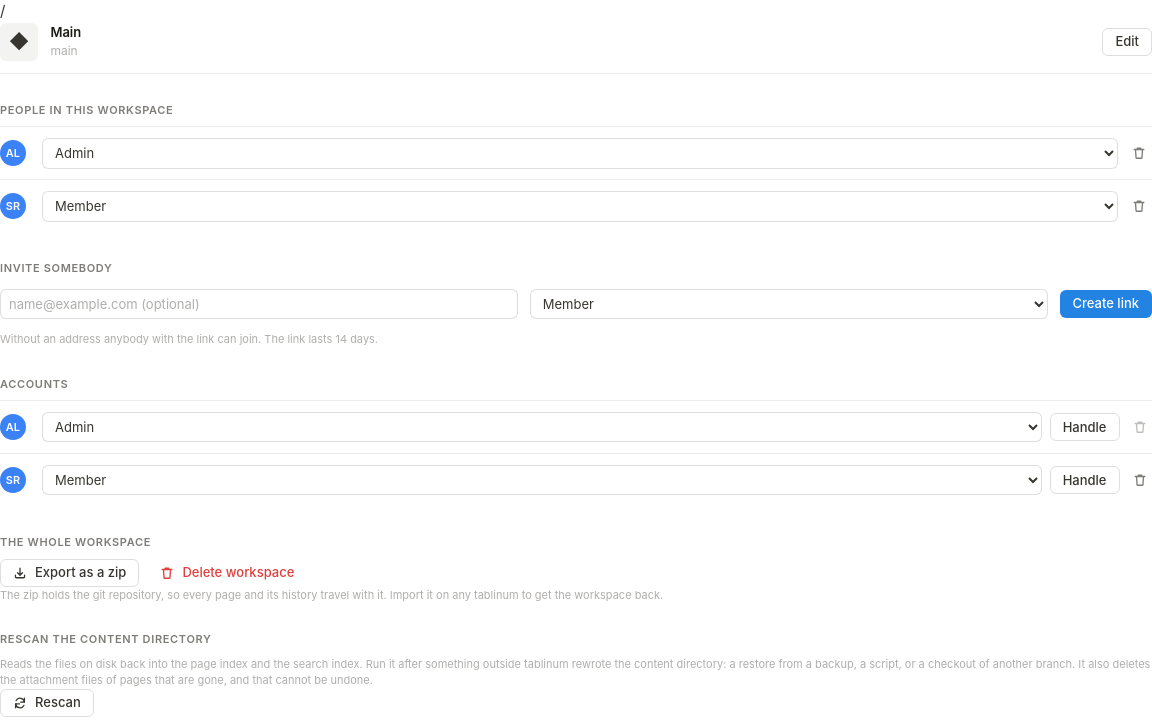
Test: the workspace settings panel › stays in the workspace after a rename changes its slug
This screenshot has width=1152, height=720.
Click the button "Edit" at {"x": 1127, "y": 42}, box [1102,28,1151,56]
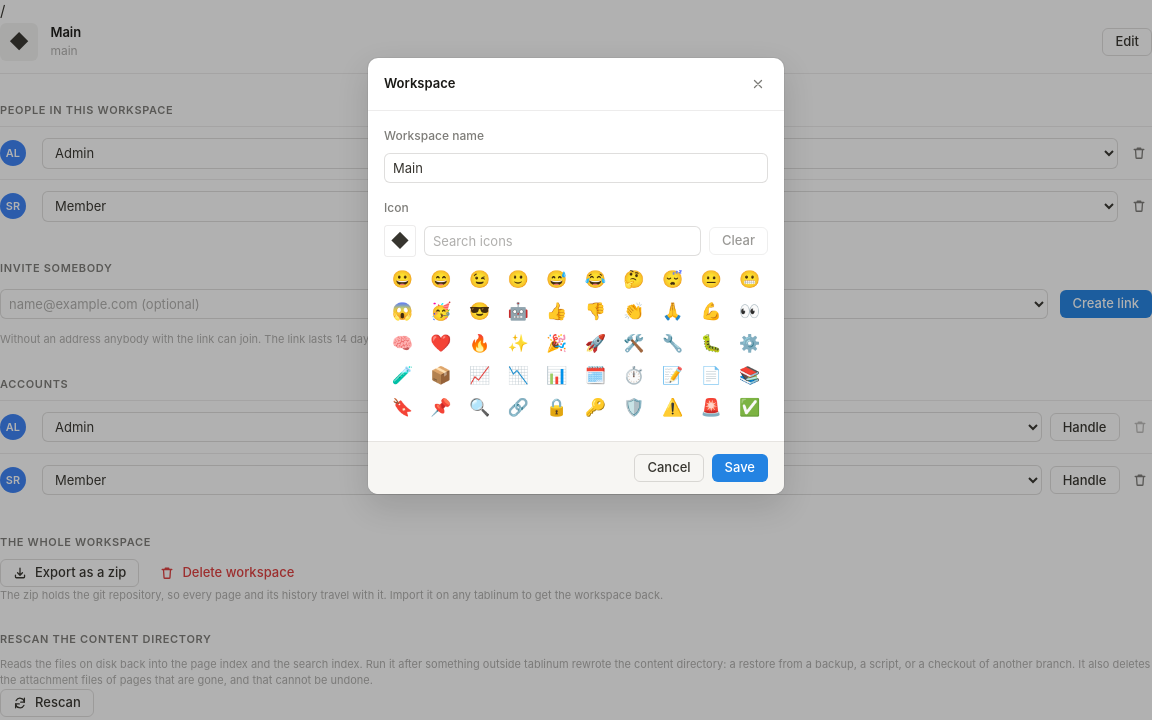
Replace the text in the field labelled "Workspace name" with "Head office" at {"x": 576, "y": 168}, box [384,153,768,183]
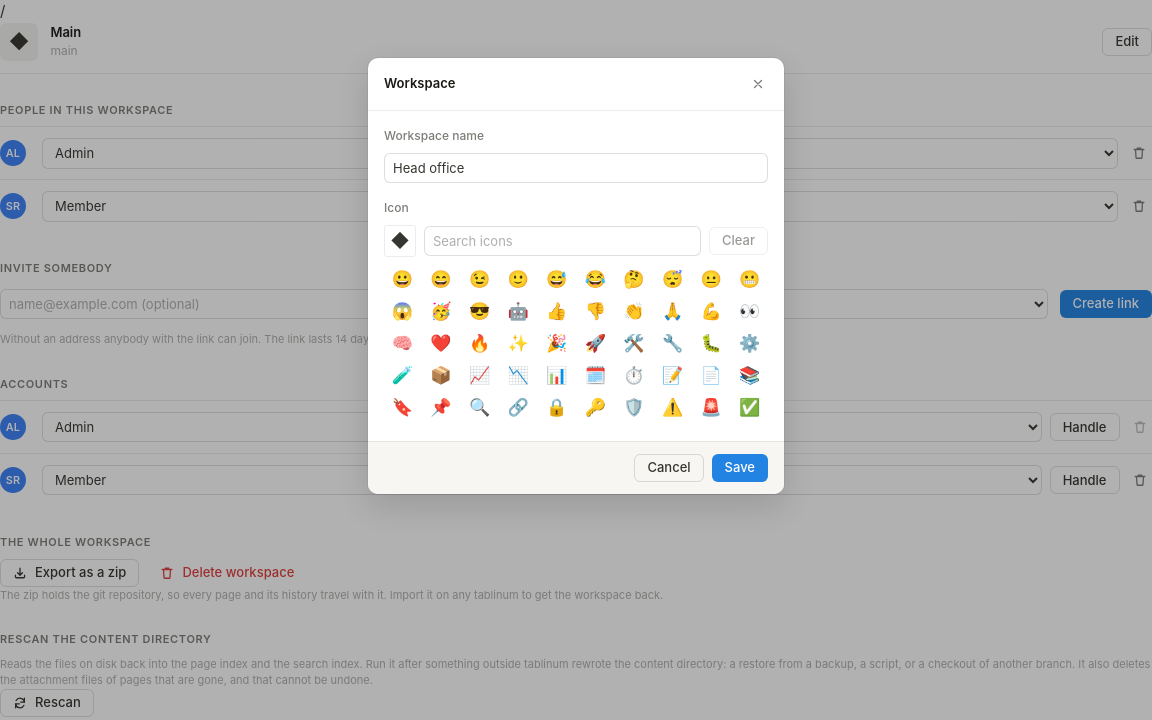
Click the button "Save" at {"x": 740, "y": 468}, box [712,454,768,482]
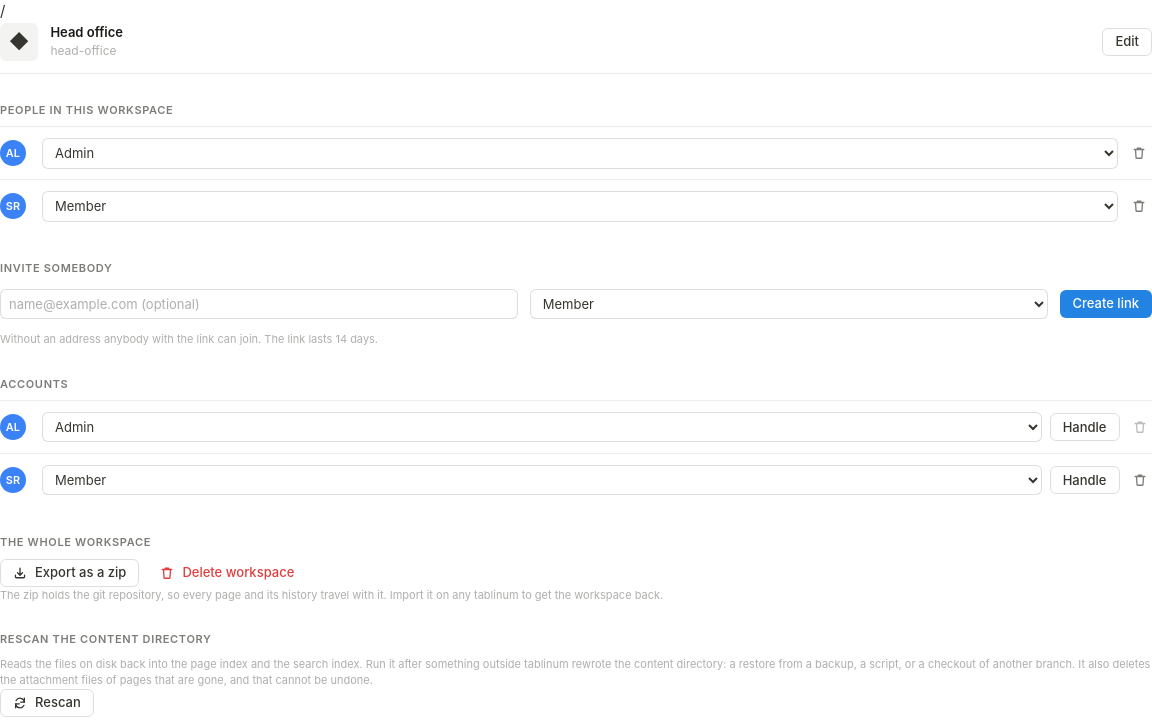
Result: the text "head-office" is shown at [50,43,117,58]
